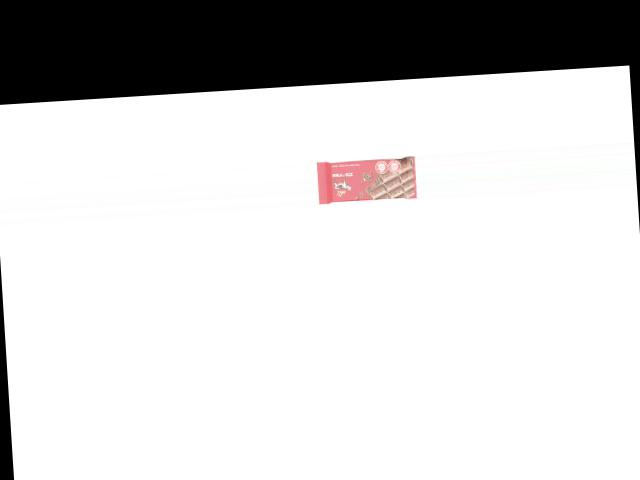chocolate: (314, 155, 417, 204)
